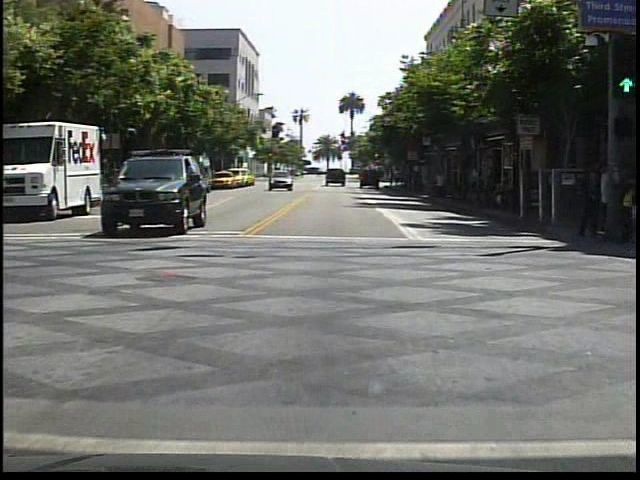person: (573, 155, 603, 241)
